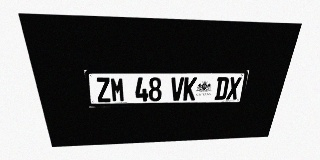4: (135, 77, 148, 102)
8: (149, 77, 162, 101)
D: (214, 77, 230, 100)
K: (183, 77, 197, 101)
M: (110, 77, 125, 102)
V: (170, 77, 184, 101)
X: (226, 77, 242, 100)
Z: (95, 77, 112, 102)
